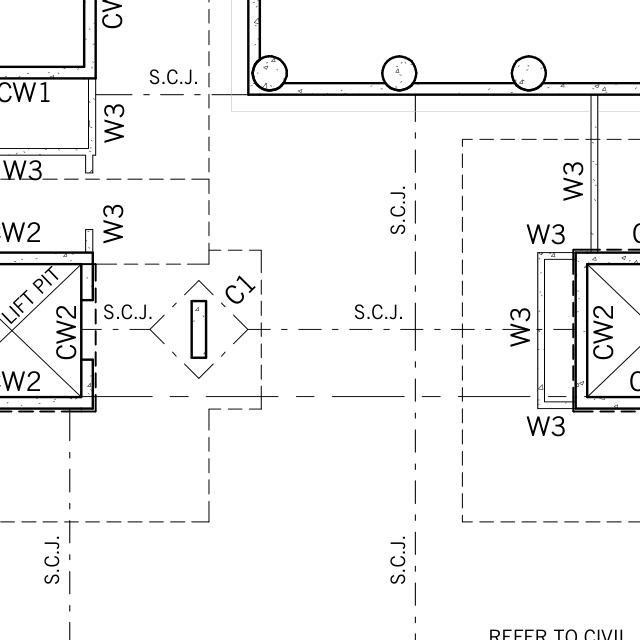C1: (213, 266, 262, 312)
CW1: (0, 75, 62, 112)
CW2: (40, 299, 89, 370), (591, 297, 623, 359)
W3: (563, 144, 609, 199), (518, 410, 585, 441), (5, 144, 54, 184), (98, 199, 133, 246), (523, 217, 578, 246), (98, 95, 131, 143), (509, 303, 538, 343)
